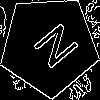N: (24, 20, 81, 77)
